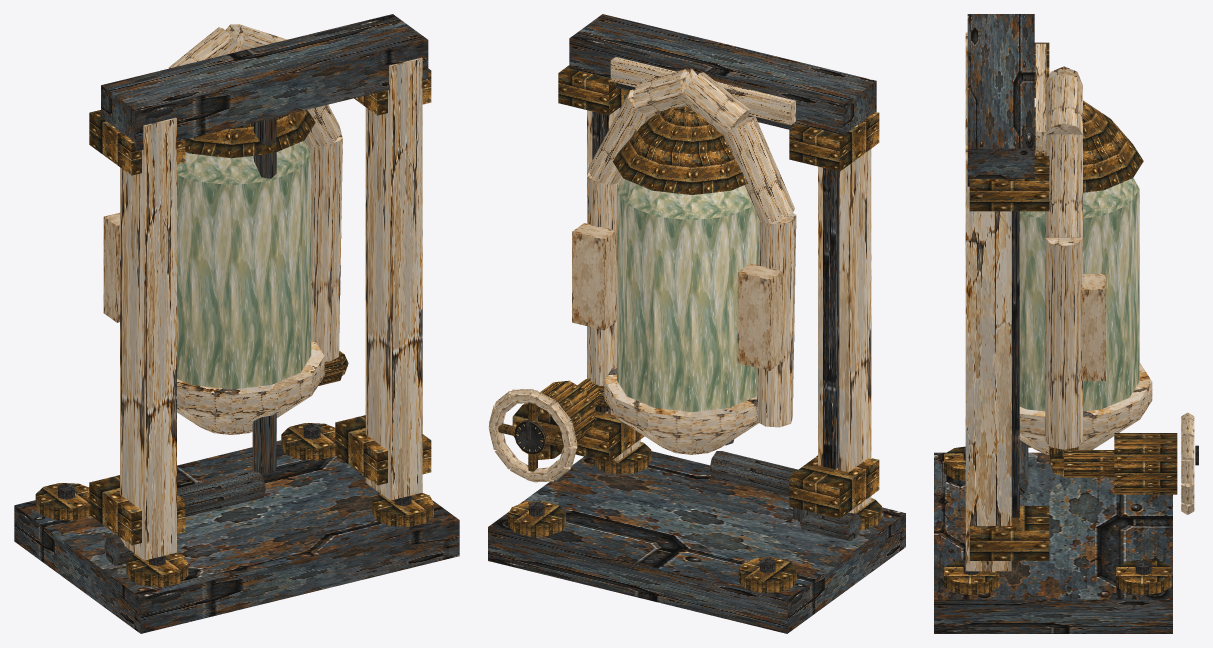
File: ivory-archive-vessel.gltf
3 views of the same model, side by side, from view 1: azimuth 30°, elevation 25°; view 2: azimuth 150°, elevation 25°; view 3: azimuth 270°, elevation 25° (orthographic). The views are drawn at different scales.
Parts seen in each view (by area): view 1: FloorPlinth, StockVolume, RearColumn_0.32, RearColumn_-0.32, Header, ArchiveArch1_0, ArchiveFoot, ArchiveCrown, ColumnBracket_0.32_0.22, ColumnBracket_-0.32_0.22, FloorConduit_0, RearFeed_0 (+10 smaller); view 2: FloorPlinth, StockVolume, Header, RearColumn_-0.32, ArchiveCrown, ArchiveFoot, ArchiveArch-1_0, ColumnInset_-0.32, ArchivePlaque-1, ArchivePlaque1, ColumnBracket_-0.32_0.22, ArchiveArch-1_1 (+17 smaller); view 3: FloorPlinth, RearColumn_0.32, StockVolume, Header, ArchiveArch1_0, ValveHousing, ArchiveCrown, ArchiveArch1_1, ArchiveFoot, ColumnBracket_0.32_0.22, ColumnBracket_0.32_1.14, ArchivePlaque1 (+9 smaller).
Boxes of the visible parts, x1=… form: FloorPlinth: x1=14, y1=440, x2=459, y2=633; StockVolume: x1=177, y1=140, x2=311, y2=389; RearColumn_0.32: x1=365, y1=57, x2=422, y2=500; RearColumn_-0.32: x1=120, y1=117, x2=176, y2=560; Header: x1=101, y1=14, x2=428, y2=151; ArchiveArch1_0: x1=307, y1=134, x2=342, y2=361; ArchiveFoot: x1=177, y1=341, x2=324, y2=434; ArchiveCrown: x1=185, y1=110, x2=315, y2=158; ColumnBracket_0.32_0.22: x1=335, y1=415, x2=431, y2=485; ColumnBracket_-0.32_0.22: x1=89, y1=475, x2=185, y2=545; FloorConduit_0: x1=177, y1=470, x2=265, y2=516; RearFeed_0: x1=252, y1=117, x2=276, y2=473; FloorPlinth: x1=488, y1=451, x2=905, y2=633; StockVolume: x1=617, y1=178, x2=759, y2=412; Header: x1=569, y1=14, x2=876, y2=135; RearColumn_-0.32: x1=818, y1=149, x2=871, y2=513; ArchiveCrown: x1=612, y1=106, x2=748, y2=194; ArchiveFoot: x1=604, y1=367, x2=758, y2=454; ArchiveArch-1_0: x1=757, y1=213, x2=796, y2=427; ColumnInset_-0.32: x1=823, y1=168, x2=839, y2=469; ArchivePlaque-1: x1=737, y1=263, x2=782, y2=370; ArchivePlaque1: x1=572, y1=223, x2=616, y2=330; ColumnBracket_-0.32_0.22: x1=789, y1=455, x2=879, y2=518; ArchiveArch-1_1: x1=723, y1=116, x2=794, y2=223; FloorPlinth: x1=934, y1=452, x2=1172, y2=633; RearColumn_0.32: x1=965, y1=145, x2=1011, y2=571; StockVolume: x1=1011, y1=178, x2=1139, y2=411; Header: x1=967, y1=14, x2=1034, y2=186; ArchiveArch1_0: x1=1045, y1=238, x2=1082, y2=449; ValveHousing: x1=1114, y1=433, x2=1177, y2=494; ArchiveCrown: x1=1034, y1=100, x2=1143, y2=192; ArchiveArch1_1: x1=1045, y1=134, x2=1082, y2=237; ArchiveFoot: x1=1011, y1=363, x2=1152, y2=454; ColumnBracket_0.32_0.22: x1=969, y1=506, x2=1049, y2=560; ColumnBracket_0.32_1.14: x1=969, y1=156, x2=1049, y2=211; ArchivePlaque1: x1=1081, y1=274, x2=1105, y2=380.
Size of the model in its own units: 0.83 by 1.29 by 0.6315.
Materials: 7 (7 with a texture image).
